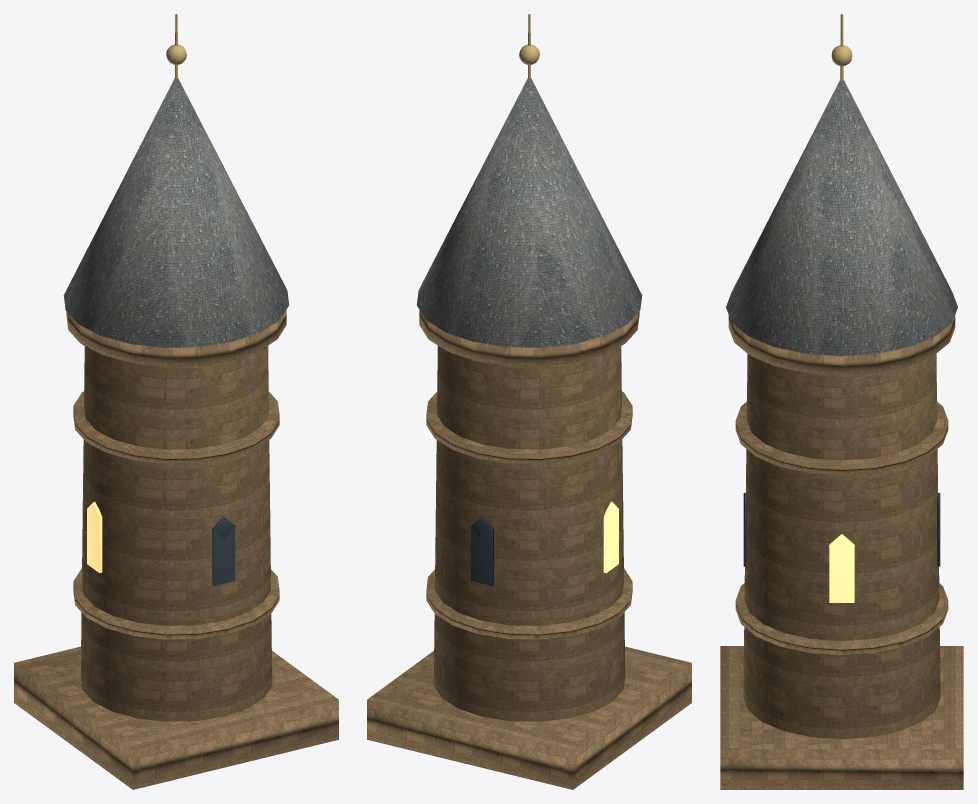
Rendered from wall_tower.glb.
3 views of the same model, side by side, from view 1: azimuth 30°, elevation 25°; view 2: azimuth 150°, elevation 25°; view 3: azimuth 270°, elevation 25° (orthographic). The views are drawn at different scales.
Parts seen in each view (by area): view 1: wall_tower; view 2: wall_tower; view 3: wall_tower.
Part boxes in pixels (x1=…): wall_tower: x1=14, y1=14, x2=338, y2=789; wall_tower: x1=367, y1=14, x2=691, y2=789; wall_tower: x1=720, y1=14, x2=963, y2=789.
Size of the model in its own units: 8.6 by 28.2 by 8.6.
5 materials, 2 textured.
